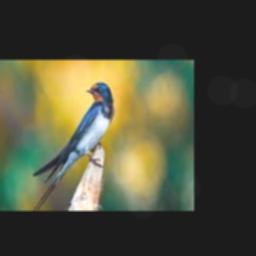Swallow: (33, 82, 113, 211)
